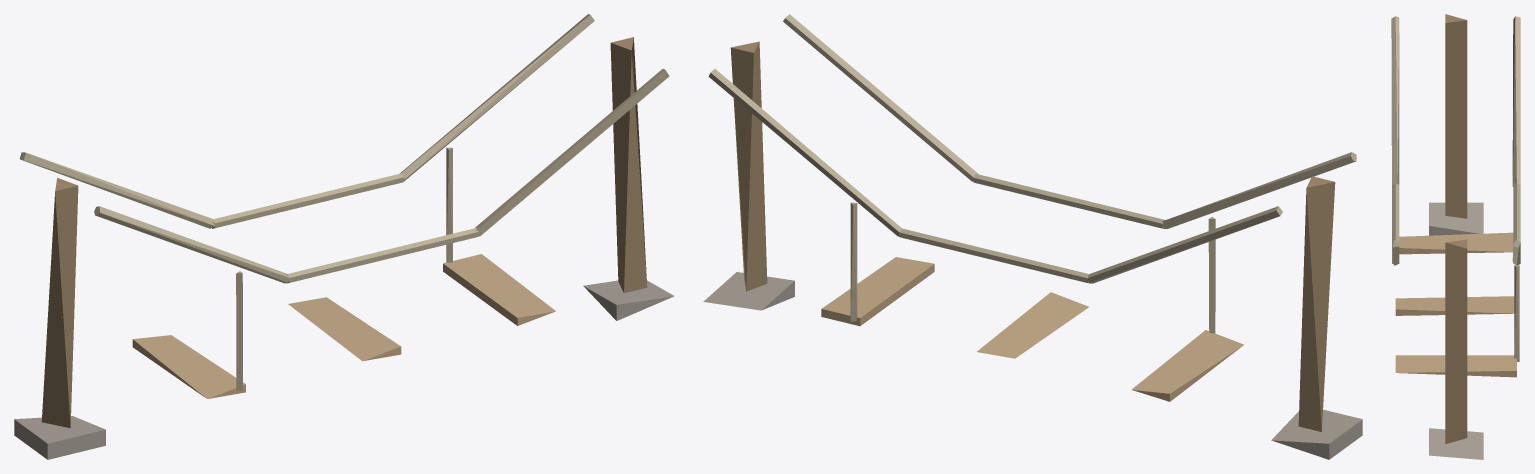
The model's file is 40-Infraestructura_puente_cuerda_colgante.glb.
The picture shows the model from 3 angles, left to right: view 1: azimuth 30°, elevation 25°; view 2: azimuth 150°, elevation 25°; view 3: azimuth 270°, elevation 25°; orthographic projection. The views are drawn at different scales.
Visible parts, largest first — view 1: SM_Puente_M_Puente_Cuerda, SM_Puente_M_Puente_Madera_Osc, SM_Puente_M_Puente_Madera, SM_Puente_M_Puente_Piedra; view 2: SM_Puente_M_Puente_Cuerda, SM_Puente_M_Puente_Madera_Osc, SM_Puente_M_Puente_Madera, SM_Puente_M_Puente_Piedra; view 3: SM_Puente_M_Puente_Madera_Osc, SM_Puente_M_Puente_Madera, SM_Puente_M_Puente_Cuerda, SM_Puente_M_Puente_Piedra.
Part boxes in pixels (x1,y1,x2,y2): SM_Puente_M_Puente_Cuerda: [19, 14, 669, 390]; SM_Puente_M_Puente_Madera_Osc: [41, 37, 647, 428]; SM_Puente_M_Puente_Madera: [132, 254, 555, 398]; SM_Puente_M_Puente_Piedra: [14, 280, 674, 459]; SM_Puente_M_Puente_Cuerda: [708, 14, 1356, 333]; SM_Puente_M_Puente_Madera_Osc: [730, 41, 1335, 431]; SM_Puente_M_Puente_Madera: [821, 257, 1243, 401]; SM_Puente_M_Puente_Piedra: [703, 272, 1362, 459]; SM_Puente_M_Puente_Madera_Osc: [1445, 14, 1467, 443]; SM_Puente_M_Puente_Madera: [1395, 232, 1516, 377]; SM_Puente_M_Puente_Cuerda: [1391, 16, 1520, 361]; SM_Puente_M_Puente_Piedra: [1429, 202, 1483, 459].
Size of the model in its own units: 4.85 by 1.93 by 1.06.
